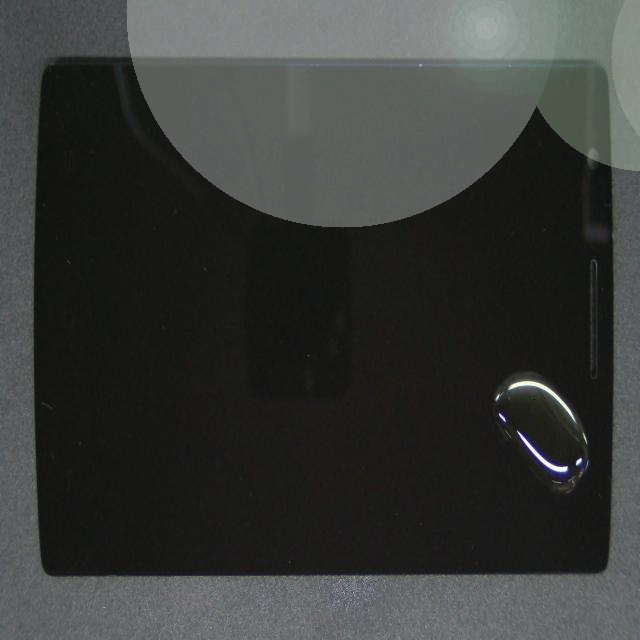oil: (270, 177, 640, 568)
